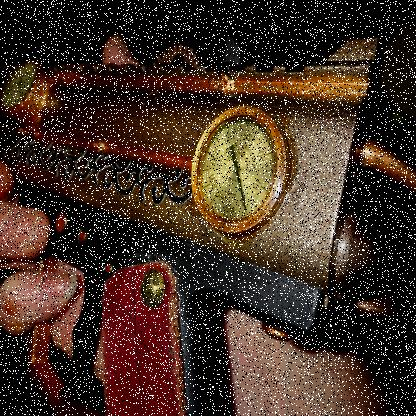needle: (235, 171, 246, 210)
